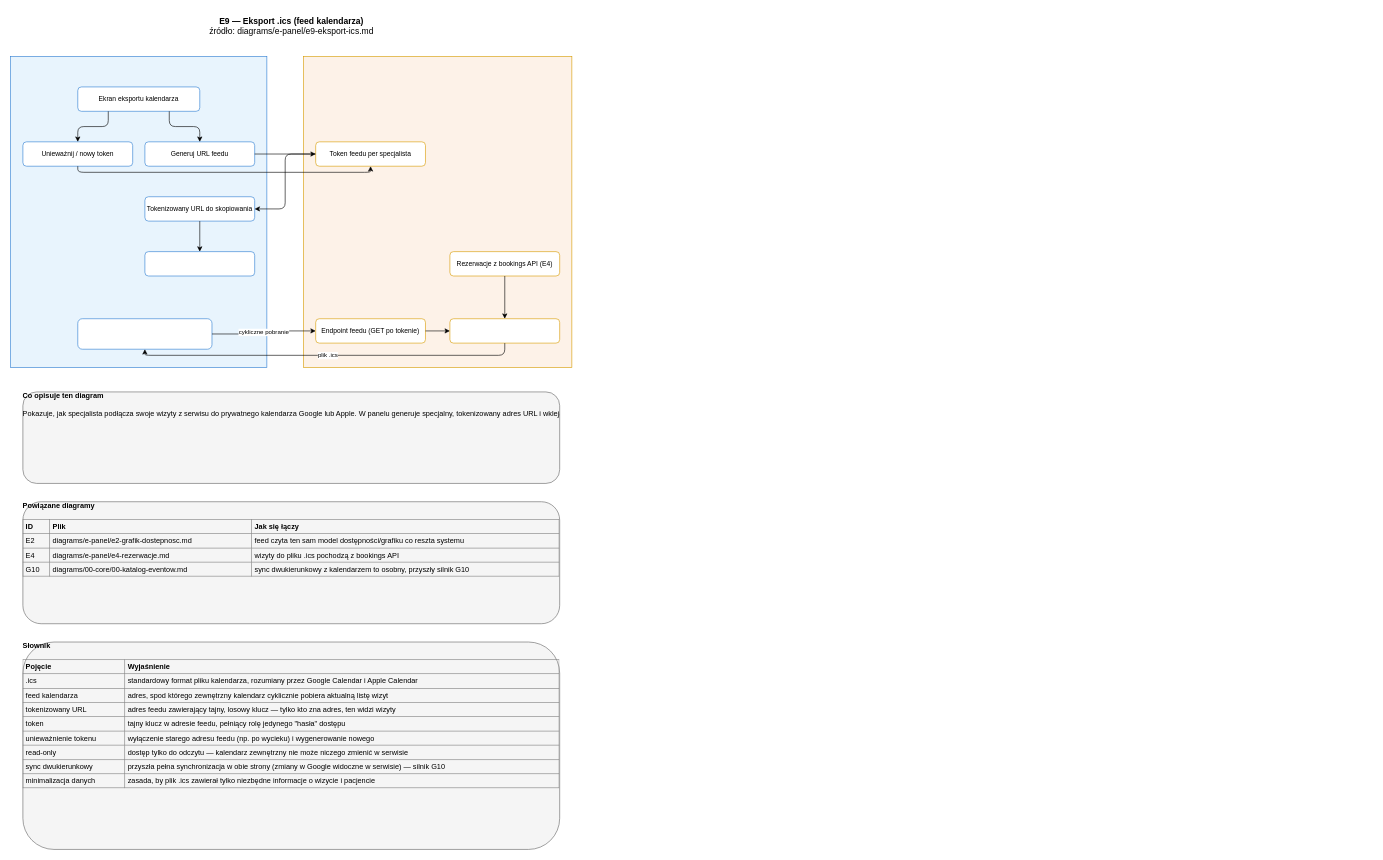
Some shapes in this 1383 by 860 pixel diagram are drawn without their labels. The box of each missing label's shape, as (x1, y1, x2, y2) in pixels:
BE — pod spodem: (303, 56, 572, 368)
FE — widzi user: (10, 56, 267, 368)
Generator .ics: (449, 318, 560, 343)
Instrukcja: Google / Apple: (144, 251, 255, 276)
Kalendarz Google/Apple specjalisty: (77, 318, 212, 349)
